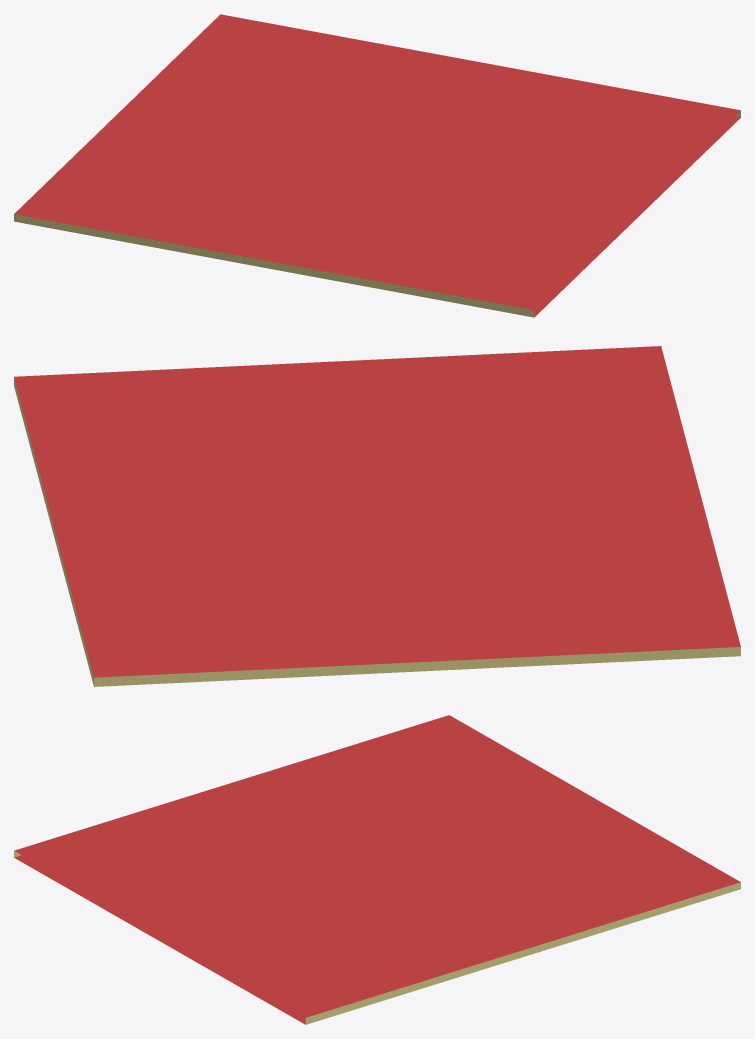
The picture shows the model from 3 angles, top to bottom: view 1: azimuth 30°, elevation 25°; view 2: azimuth 150°, elevation 25°; view 3: azimuth 270°, elevation 25°; orthographic projection. The views are drawn at different scales.
Bounding box in the file's own units: 9.21 × 9.35 × 0.1.
